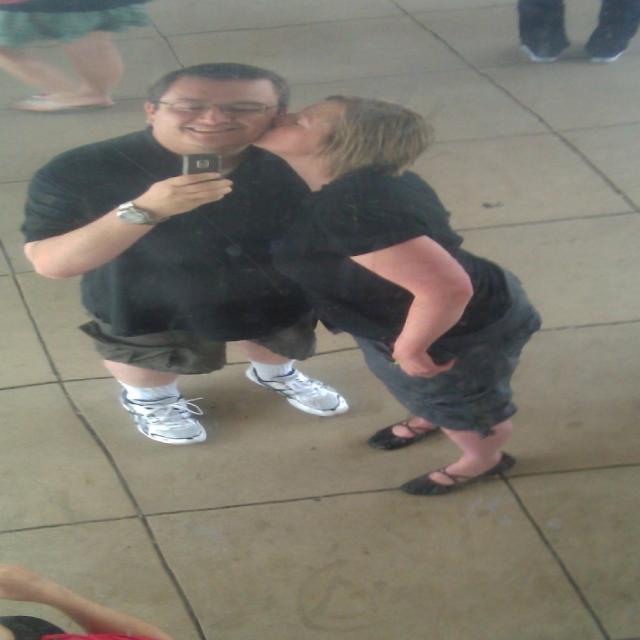Glasses: (154, 98, 274, 122)
